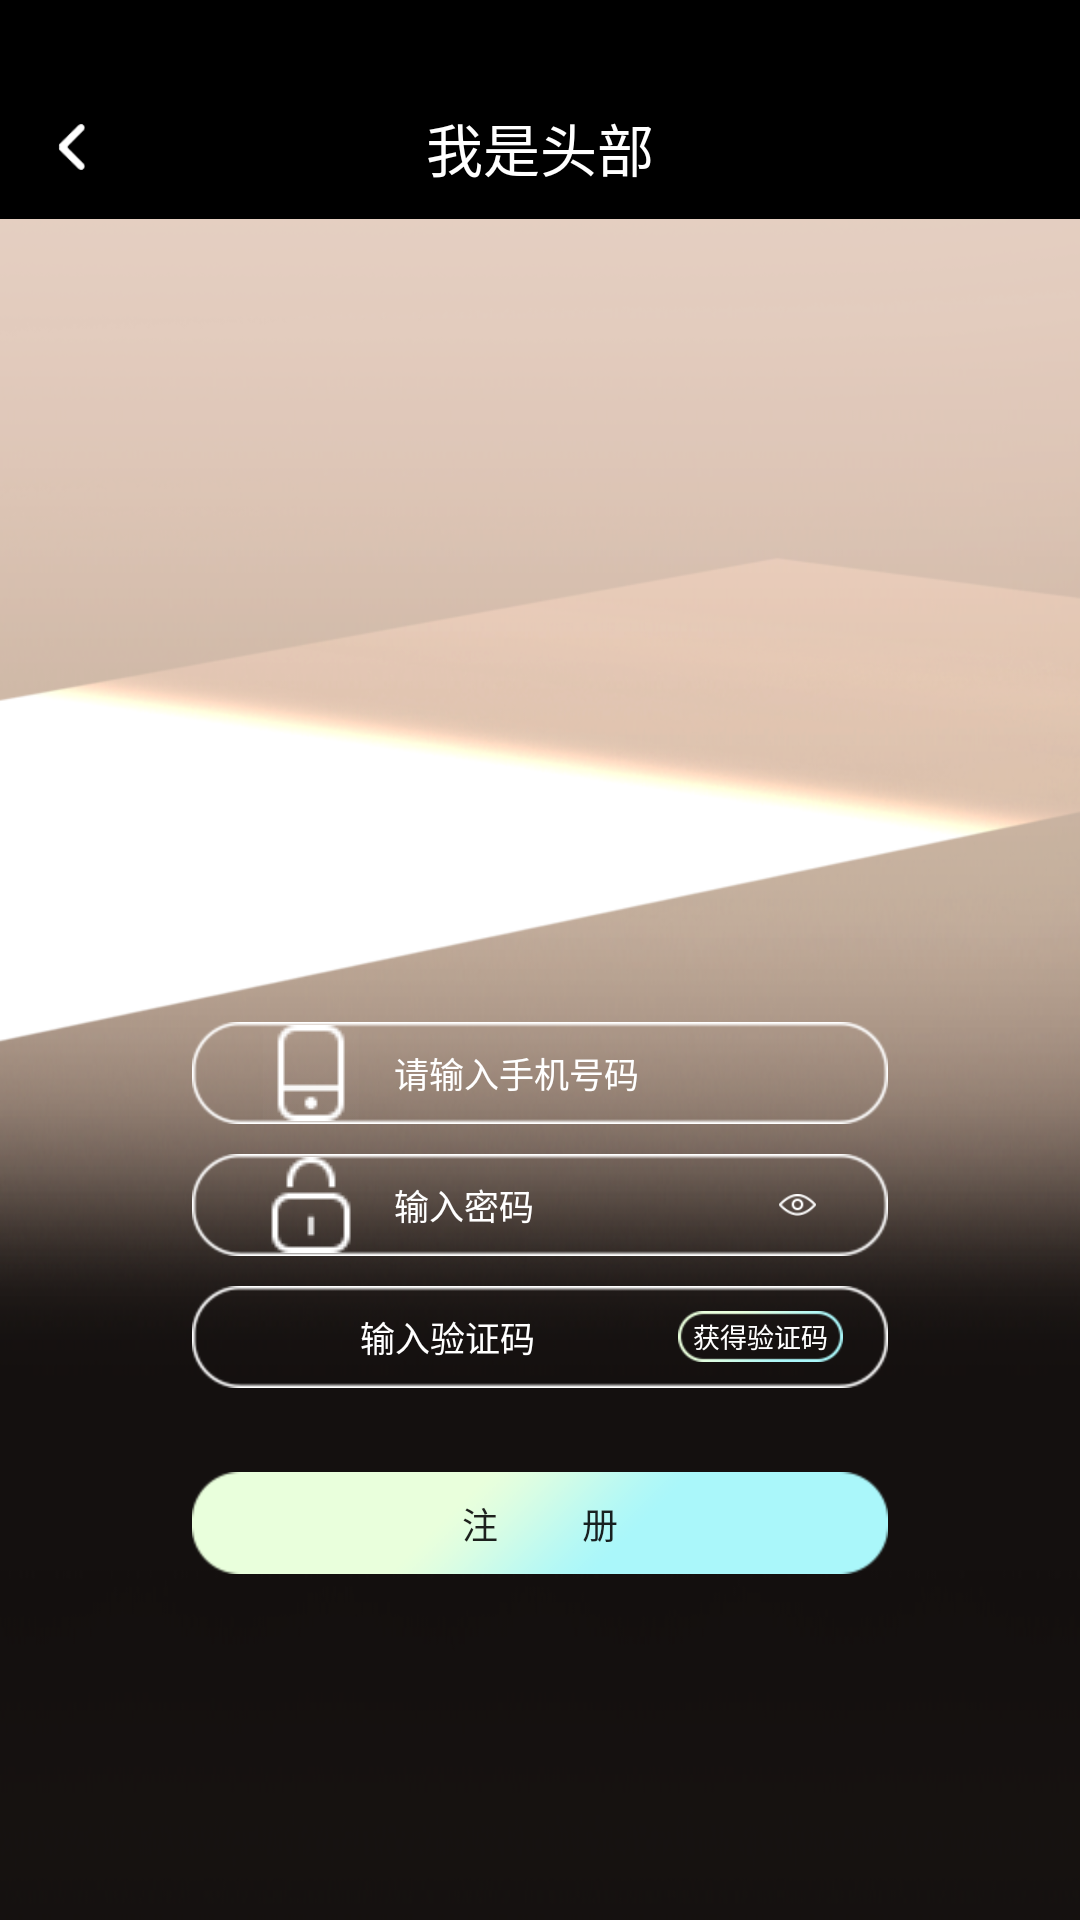

Icons on this 1080w x 1920h Android screen, each with the point to tap as (x=x, y=y):
login password: (x=311, y=1205)
login username: (x=311, y=1073)
title back: (x=72, y=147)
